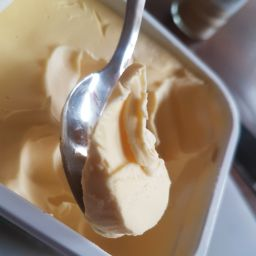Butter: (2, 13, 226, 256)
